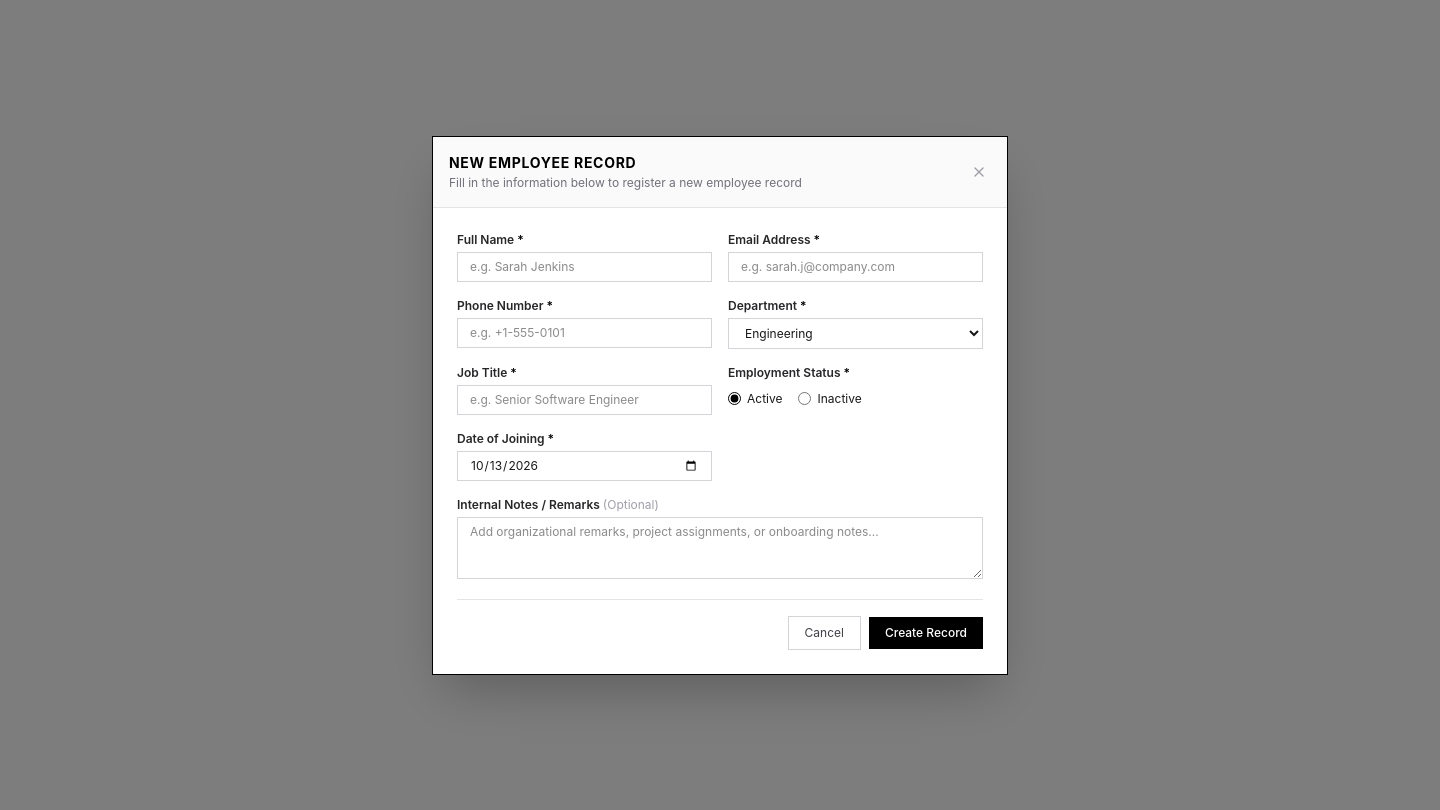
EmployeeFormModal Validation › displays field-level errors when submitting invalid empty fields
# Click submit without entering required name or email
Step 1. Click the button "Create Record" → coordinates (926, 632), box [869, 616, 983, 648]
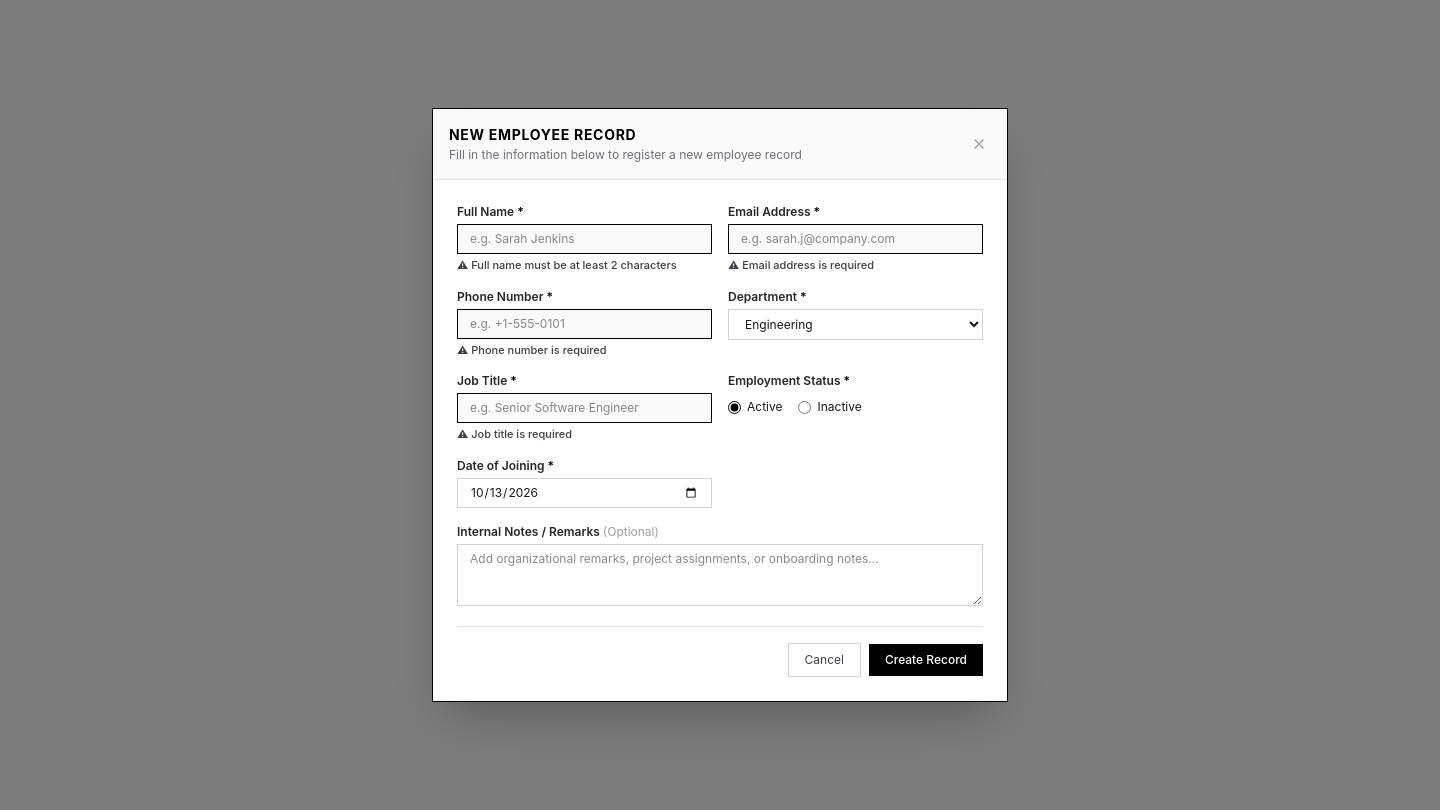
Now the text "⚠ Full name must be at least 2 characters" is shown, box [457, 258, 712, 273]
Now the text "⚠ Email address is required" is shown, box [728, 258, 874, 272]
